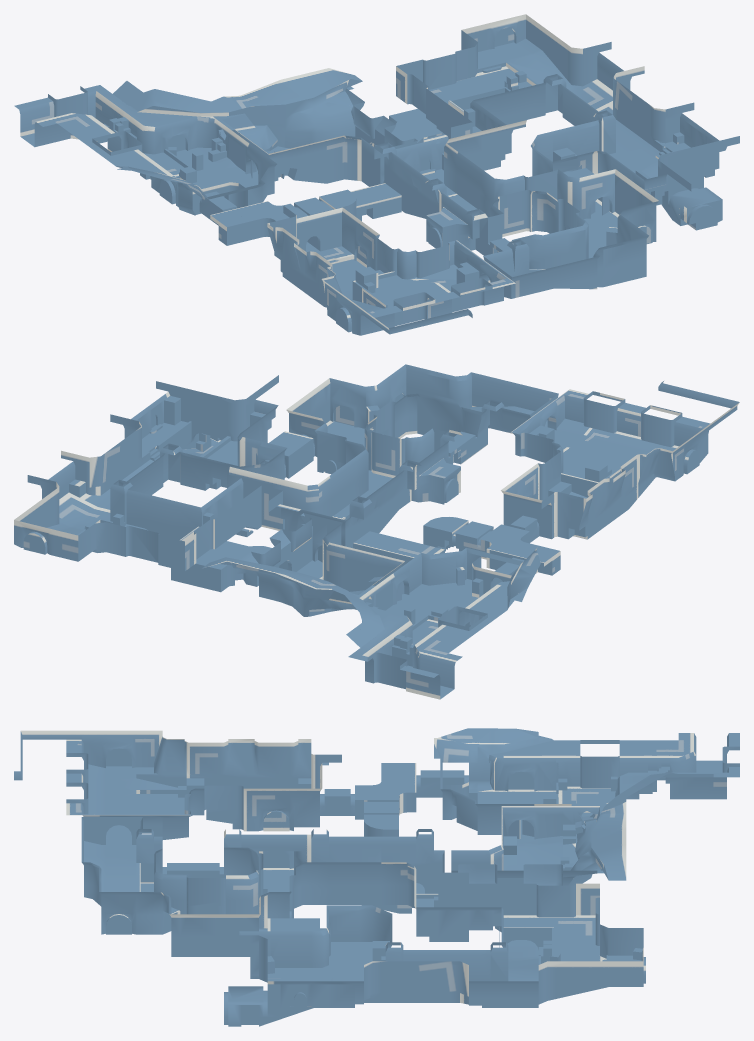
3 views of the same model, one above another, from view 1: azimuth 30°, elevation 25°; view 2: azimuth 150°, elevation 25°; view 3: azimuth 270°, elevation 25° (orthographic). The views are drawn at different scales.
Parts seen in each view (by area): view 1: part9, part10, part1, part7, part8, part5, part11, part3, part6, part2, part4; view 2: part10, part9, part8, part5, part1, part11, part2, part4, part3, part6, part7; view 3: part10, part9, part3, part2, part11, part8, part1, part4, part6, part7, part5.
Boxes of the visible parts, box(x1,y1,x2,y2) form: part9: box(369, 14, 623, 147); part10: box(531, 66, 739, 230); part1: box(14, 81, 249, 181); part7: box(203, 68, 387, 183); part8: box(318, 98, 526, 221); part5: box(411, 225, 622, 306); part11: box(524, 168, 658, 282); part3: box(267, 206, 417, 307); part6: box(408, 152, 529, 255); part2: box(117, 143, 331, 245); part4: box(321, 266, 485, 335); part10: box(61, 375, 286, 509); part9: box(14, 466, 290, 592); part8: box(201, 466, 468, 579); part5: box(417, 371, 599, 464); part1: box(331, 573, 507, 699); part11: box(265, 364, 449, 478); part2: box(386, 521, 560, 627); part4: box(563, 381, 739, 497); part3: box(490, 442, 639, 543); part6: box(330, 428, 462, 533); part7: box(202, 531, 404, 616); part10: box(189, 905, 481, 1026); part9: box(482, 870, 645, 1007); part3: box(186, 739, 372, 831); part2: box(355, 728, 558, 842); part11: box(99, 870, 319, 956); part8: box(364, 813, 508, 941); part1: box(503, 733, 739, 820); part4: box(14, 730, 186, 814); part6: box(193, 829, 381, 908); part7: box(488, 794, 631, 885); part5: box(66, 794, 219, 906).
Bounding box in the file's own units: 77.03 × 10.45 × 91.34.
Materials: 11 (11 with a texture image).
